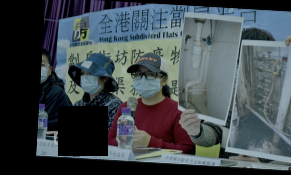with_mask: (133, 68, 163, 98), (80, 68, 103, 95), (41, 59, 51, 86)
